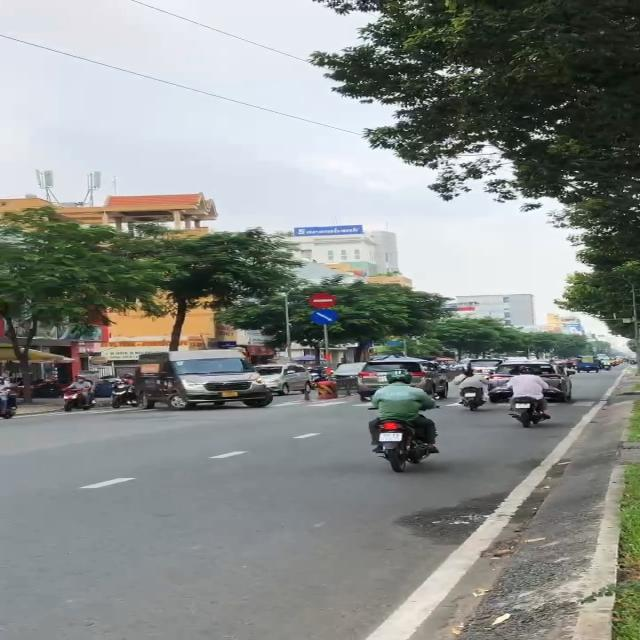Bien bao cam di nguoc chieu: (305, 292, 337, 309)
Bien bao huong phai di vong chuong ngai vat: (308, 309, 340, 327)
